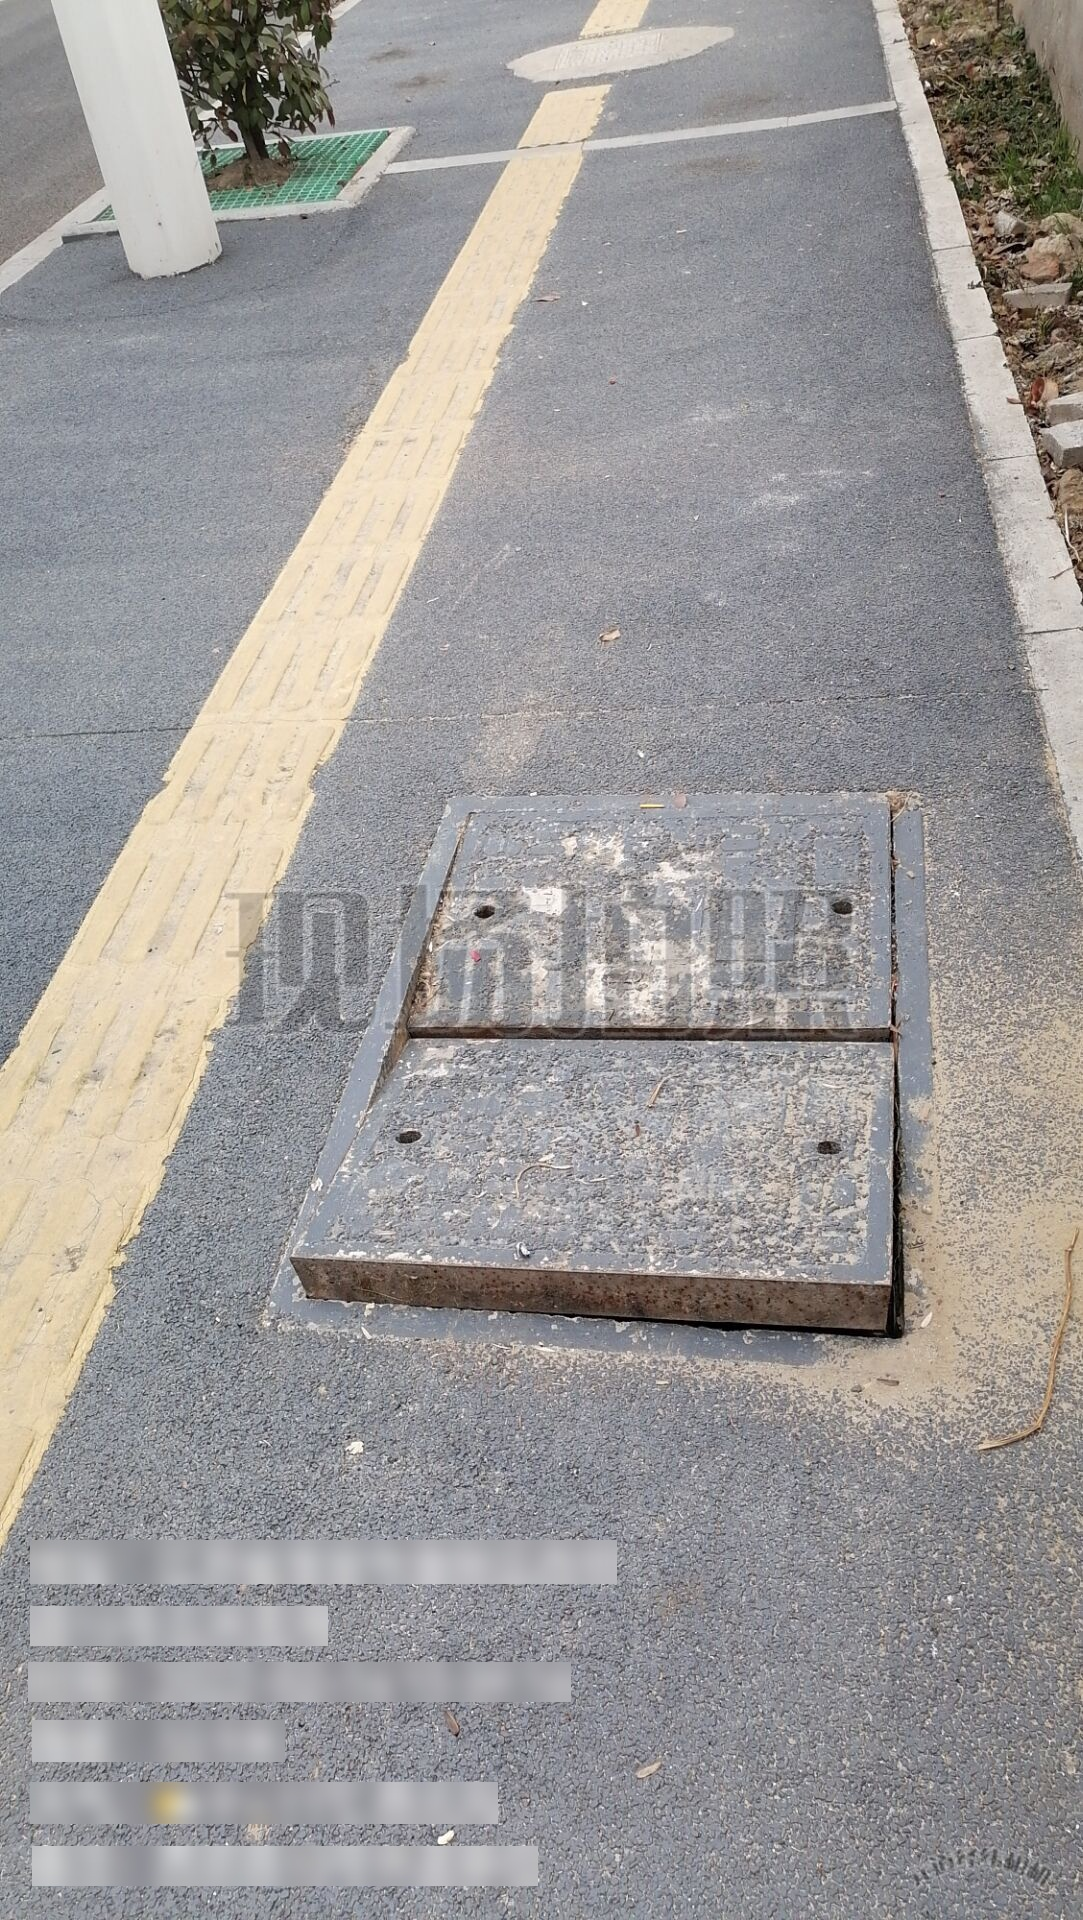uncovered: (253, 793, 952, 1379)
